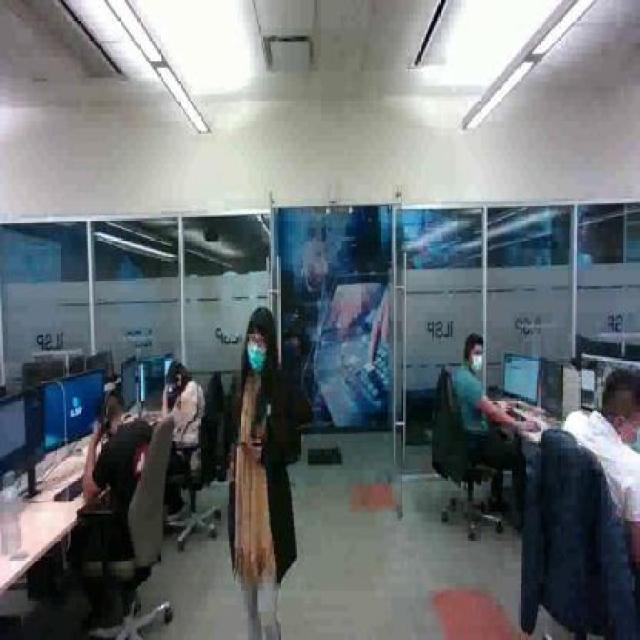sem_oculos: (244, 328, 270, 350), (465, 344, 489, 359)
